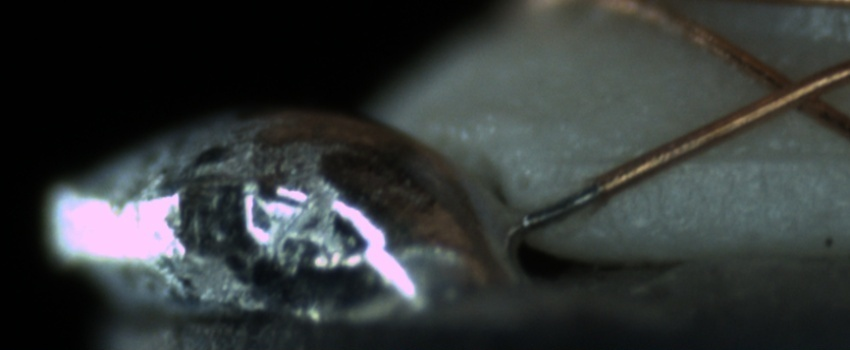CL: (739, 54, 845, 125)
DL: (545, 126, 849, 184)
TS: (518, 183, 607, 228)
TTCW: (510, 164, 641, 238)
